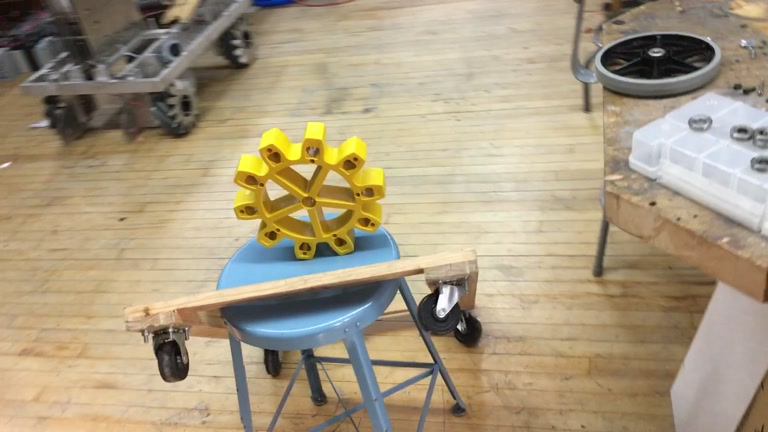gear: (232, 123, 383, 260)
